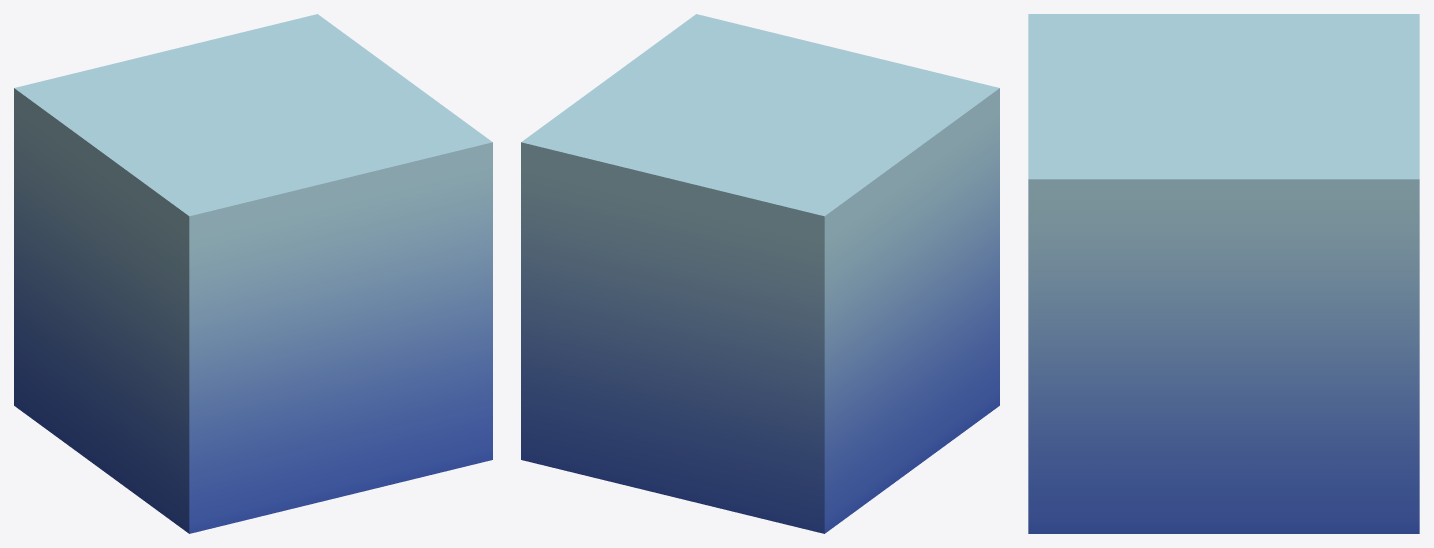
File: Stone018.fbx
3 renders of one model, left to right at view 1: azimuth 30°, elevation 25°; view 2: azimuth 150°, elevation 25°; view 3: azimuth 270°, elevation 25°, orthographic. The views are drawn at different scales.
Visible parts, largest first — view 1: Stone018; view 2: Stone018; view 3: Stone018.
Boxes of the visible parts, x1,y1,x2,y2 form: Stone018: (14,14,492,533); Stone018: (521,14,999,533); Stone018: (1028,14,1419,533).
Size of the model in its own units: 156 by 156 by 156.
